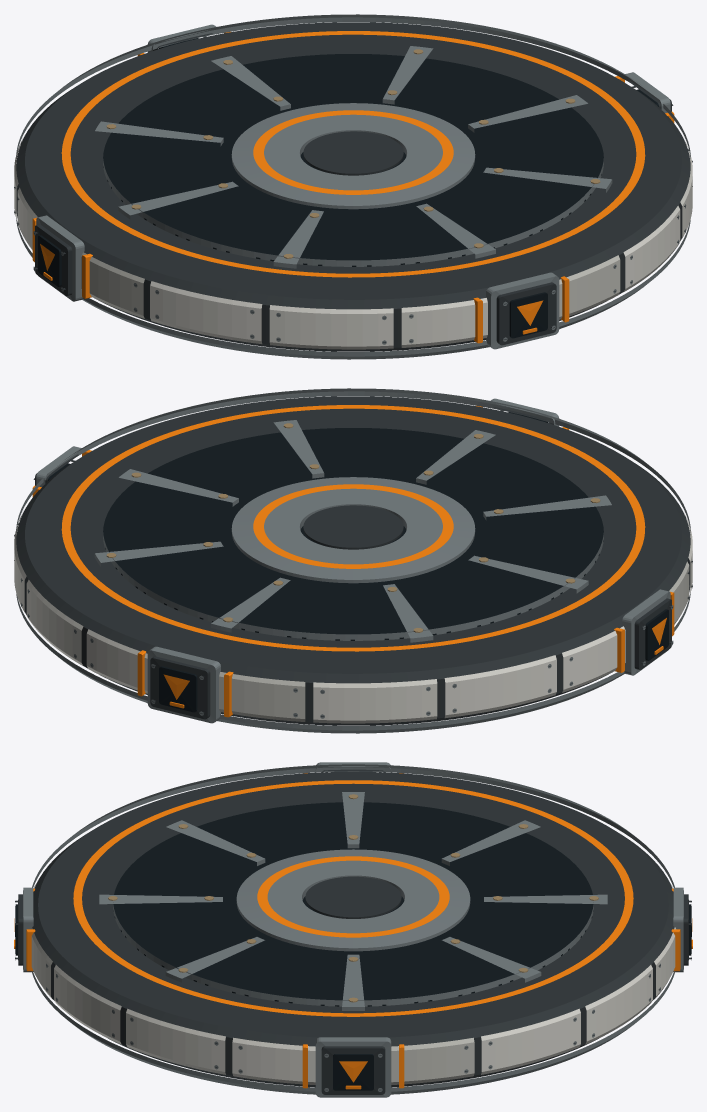
File: gyro_1.glb
3 views of the same model, one above another, from view 1: azimuth 30°, elevation 25°; view 2: azimuth 150°, elevation 25°; view 3: azimuth 270°, elevation 25° (orthographic). The views are drawn at different scales.
Parts seen in each view (by area): view 1: Gyro_1_ReactionWheel; view 2: Gyro_1_ReactionWheel; view 3: Gyro_1_ReactionWheel.
Boxes of the visible parts, box(x1,y1,x2,y2) form: Gyro_1_ReactionWheel: box(14, 14, 692, 359); Gyro_1_ReactionWheel: box(14, 388, 692, 733); Gyro_1_ReactionWheel: box(14, 762, 692, 1097).
Bounding box in the file's own units: 1.98 × 0.214 × 1.98.
